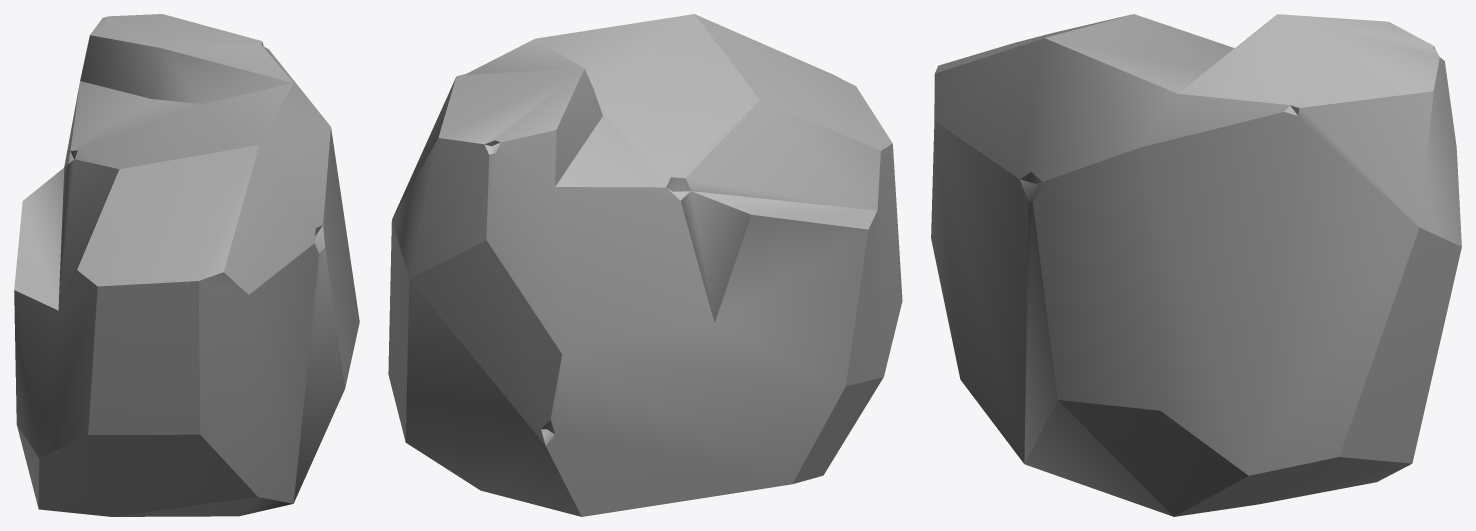
The model's file is SK_Rock_010.FBX.
3 renders of one model, left to right at view 1: azimuth 30°, elevation 25°; view 2: azimuth 150°, elevation 25°; view 3: azimuth 270°, elevation 25°, orthographic. The views are drawn at different scales.
Visible parts, largest first — view 1: SK_Rock_010; view 2: SK_Rock_010; view 3: SK_Rock_010.
Boxes of the visible parts, left/top/right/bottom form: SK_Rock_010: left=14, top=14, right=359, bottom=516; SK_Rock_010: left=388, top=14, right=902, bottom=516; SK_Rock_010: left=931, top=14, right=1461, bottom=516.
Size of the model in its own units: 151 by 147 by 161.
1 material, 1 textured.
